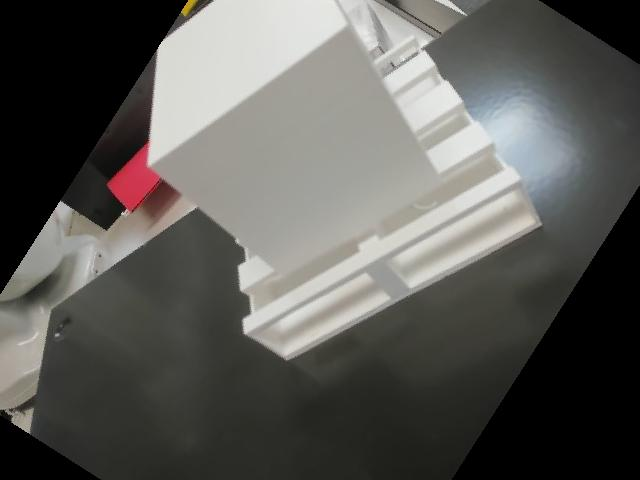white pallet: (118, 0, 570, 376)
